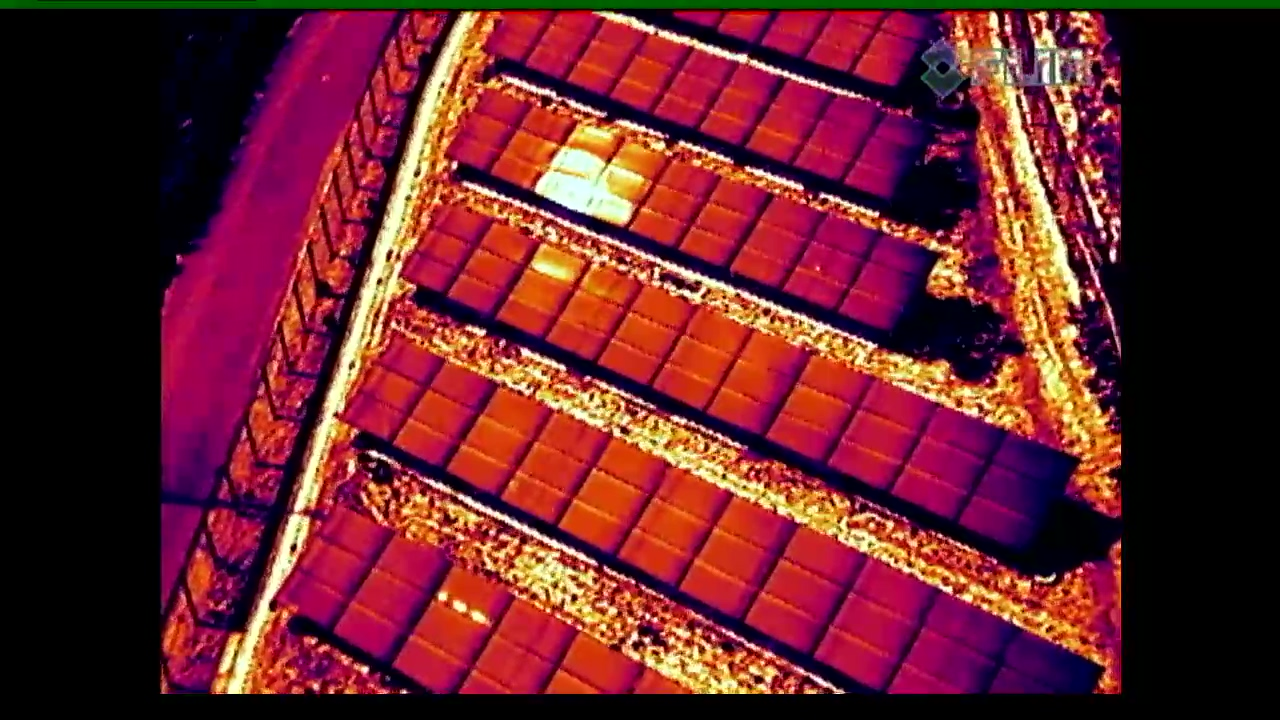hotspot: (382, 565, 514, 690), (782, 214, 878, 309)
